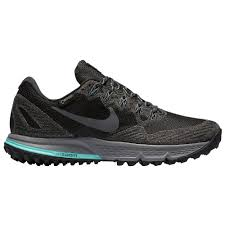nike: (50, 104, 121, 134)
